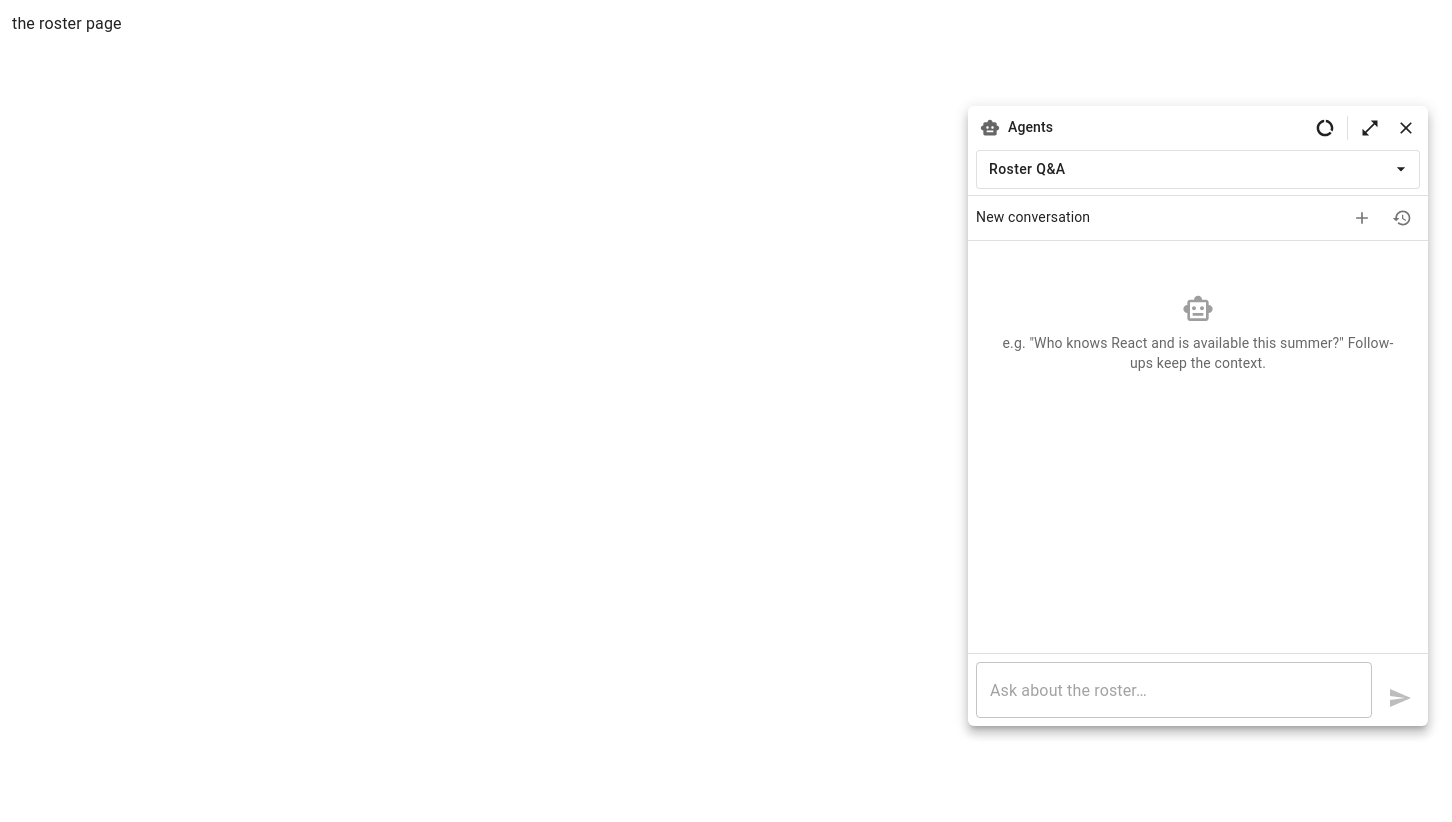
Test: agent dock error containment (P1T-153) › contains a panel crash to the panel: the widget chrome and the page stay usable
Click the button named "Token usage": [1325, 128] box x1=1307 y1=110 x2=1343 y2=146
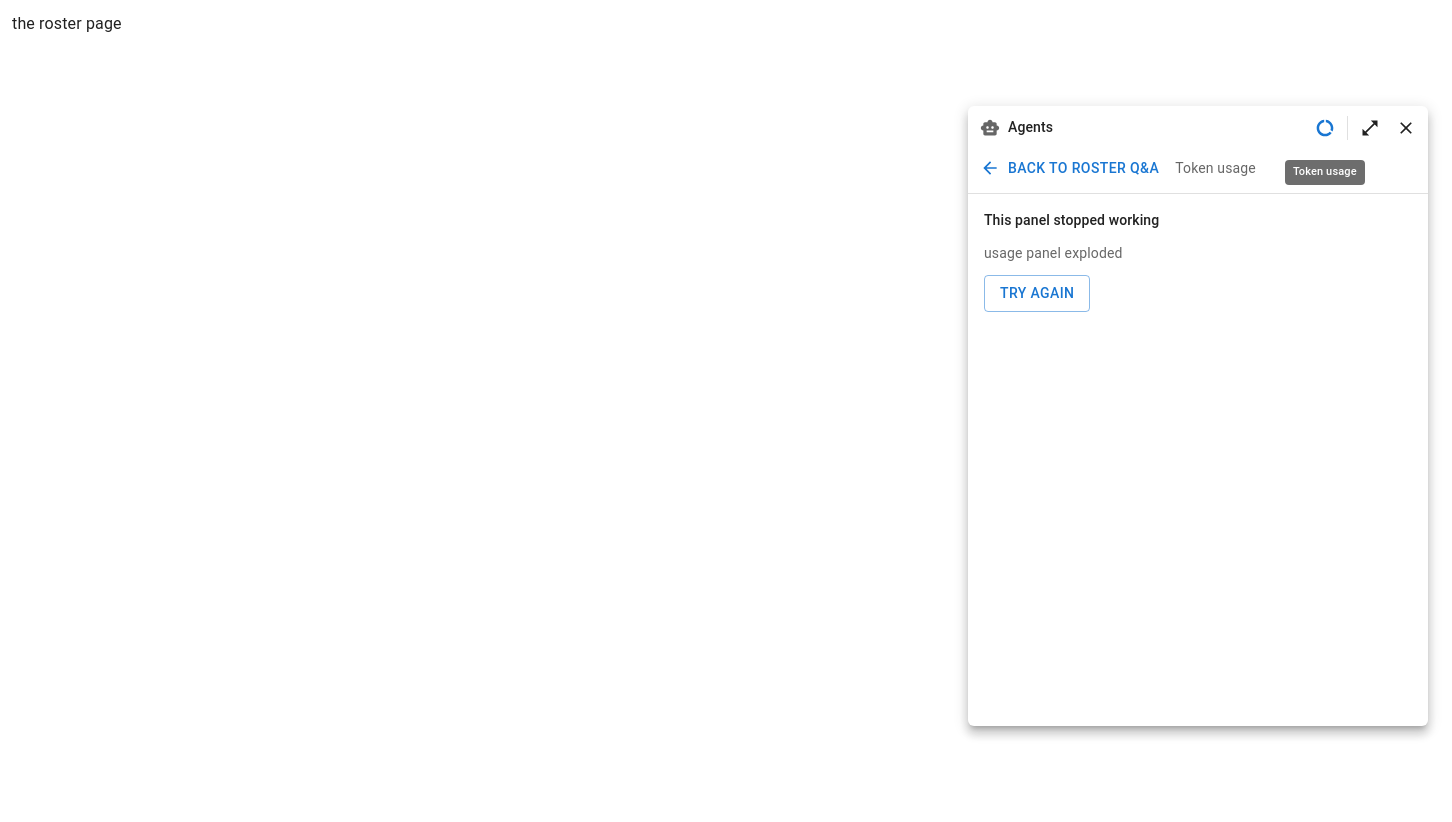
Expected: the text "the roster page" is shown, x1=12 y1=14 x2=122 y2=33
Expected: the message shows "This panel stopped working", x1=984 y1=212 x2=1159 y2=228
Expected: the message shows "usage panel exploded", x1=984 y1=246 x2=1123 y2=262
